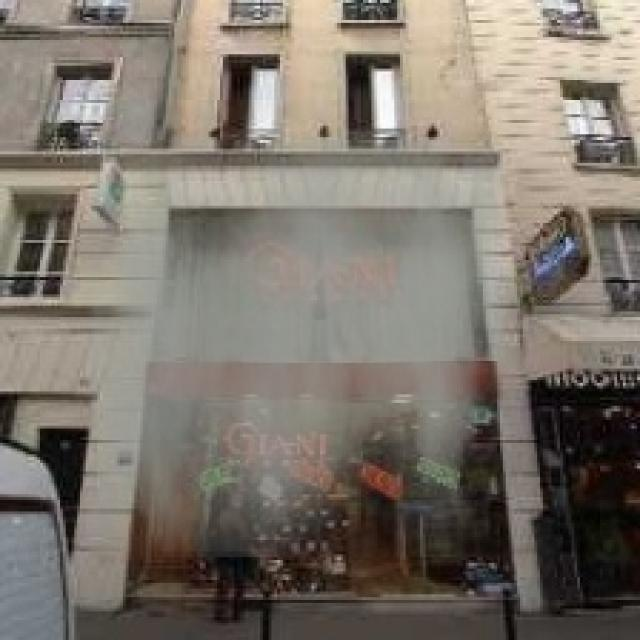smoke: (86, 132, 506, 557)
